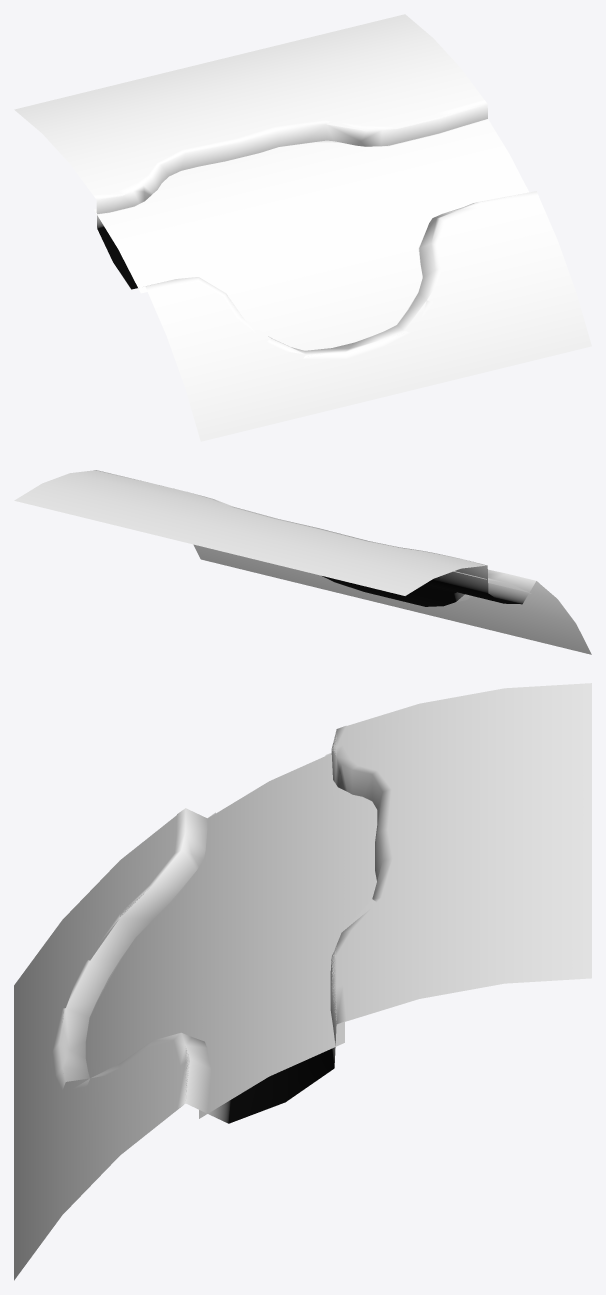
The model's file is grd_Rw_P_1.dae.
The picture shows the model from 3 angles, top to bottom: view 1: azimuth 30°, elevation 25°; view 2: azimuth 150°, elevation 25°; view 3: azimuth 270°, elevation 25°; orthographic projection. The views are drawn at different scales.
Visible parts, largest first — view 1: grd_Rw_P_1; view 2: grd_Rw_P_1; view 3: grd_Rw_P_1.
Part boxes in pixels (x1,y1,x2,y2): grd_Rw_P_1: (14,14,591,441); grd_Rw_P_1: (14,470,591,654); grd_Rw_P_1: (14,683,591,1280).
Bounding box in the file's own units: 512 × 244 × 423.
Materials: 4 (1 with a texture image).
